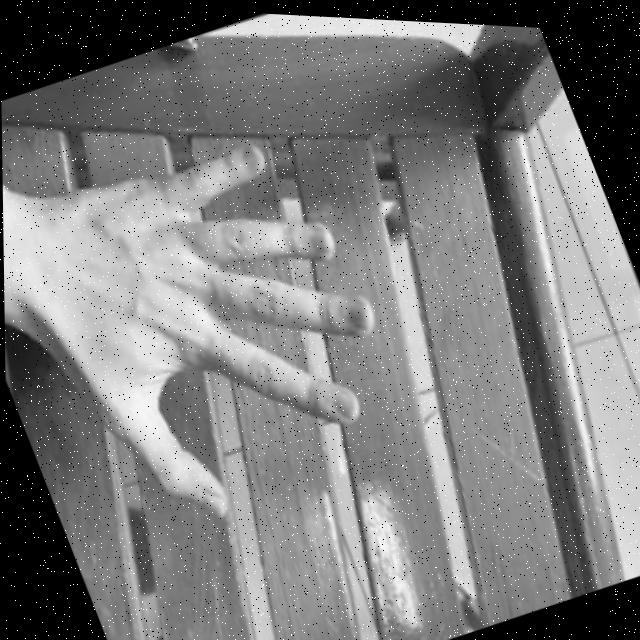hand: (1, 101, 427, 560)
